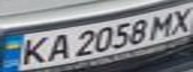0: (93, 24, 118, 53)
2: (72, 27, 96, 58)
5: (112, 20, 136, 48)
8: (127, 16, 154, 44)
A: (42, 30, 75, 62)
K: (12, 34, 54, 68)
M: (145, 10, 181, 39)
X: (163, 5, 193, 35)
